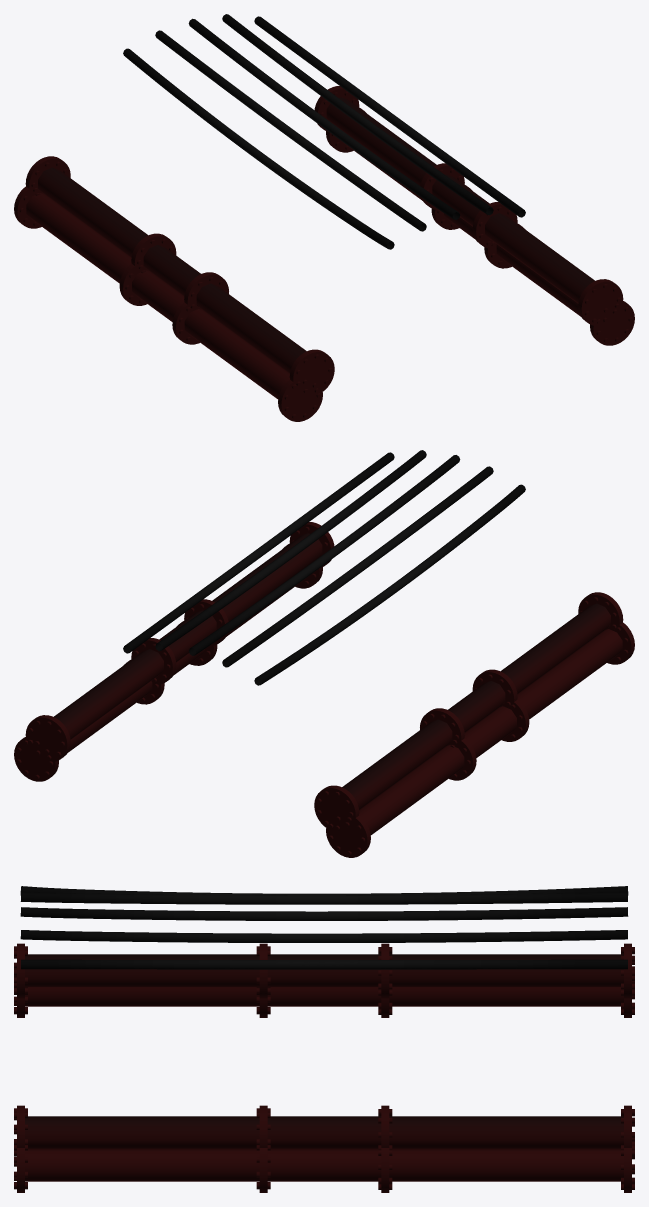
The model's file is SM_Sewer_INT_Pipe.fbx.
The picture shows the model from 3 angles, top to bottom: view 1: azimuth 30°, elevation 25°; view 2: azimuth 150°, elevation 25°; view 3: azimuth 270°, elevation 25°; orthographic projection. The views are drawn at different scales.
Visible parts, largest first — view 1: transform11; view 2: transform11; view 3: transform11.
Boxes of the visible parts, x1,y1,x2,y2 form: transform11: [14, 14, 634, 421]; transform11: [14, 450, 634, 857]; transform11: [14, 886, 634, 1192].
Size of the model in its own units: 619 by 284 by 818.
